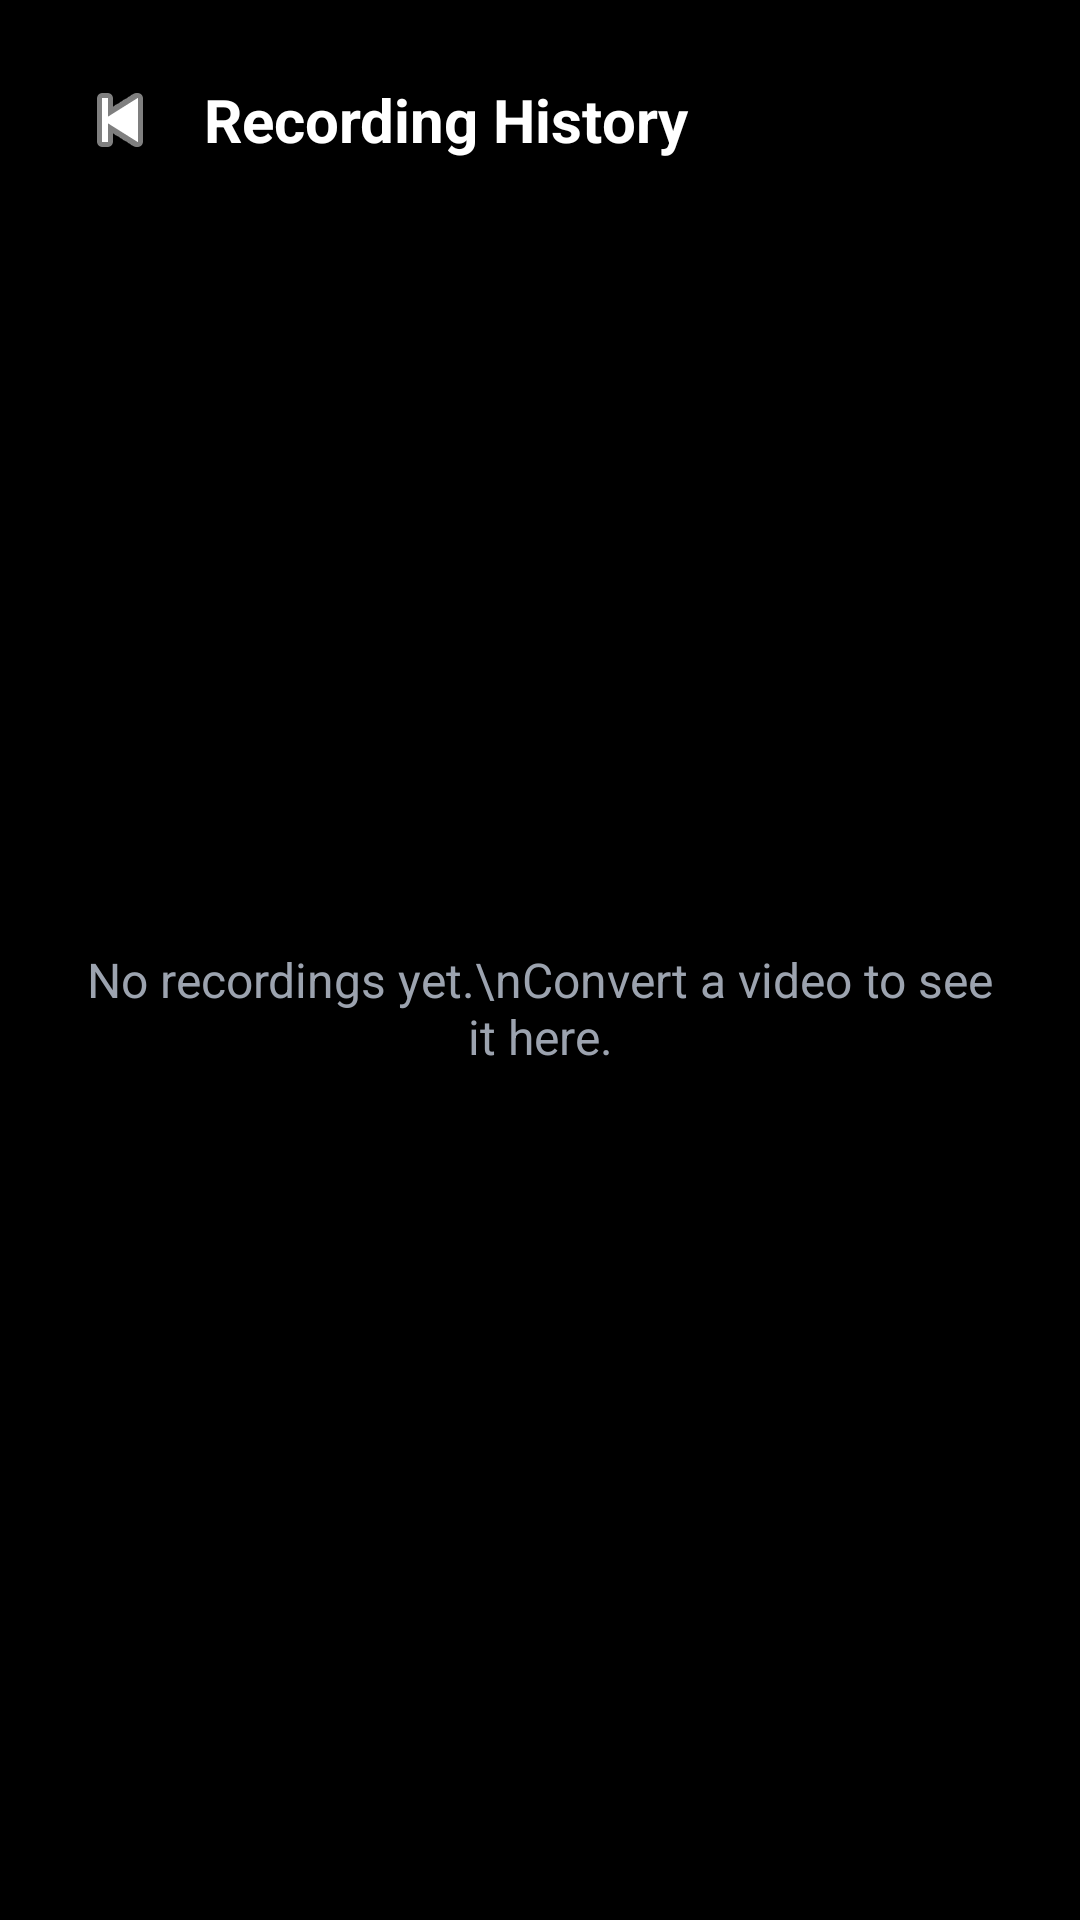

Locate icon controls on the screen. Image size 1080x1920, boxes as (x1, y1, x2, y2).
previous: (97, 93, 143, 147)
